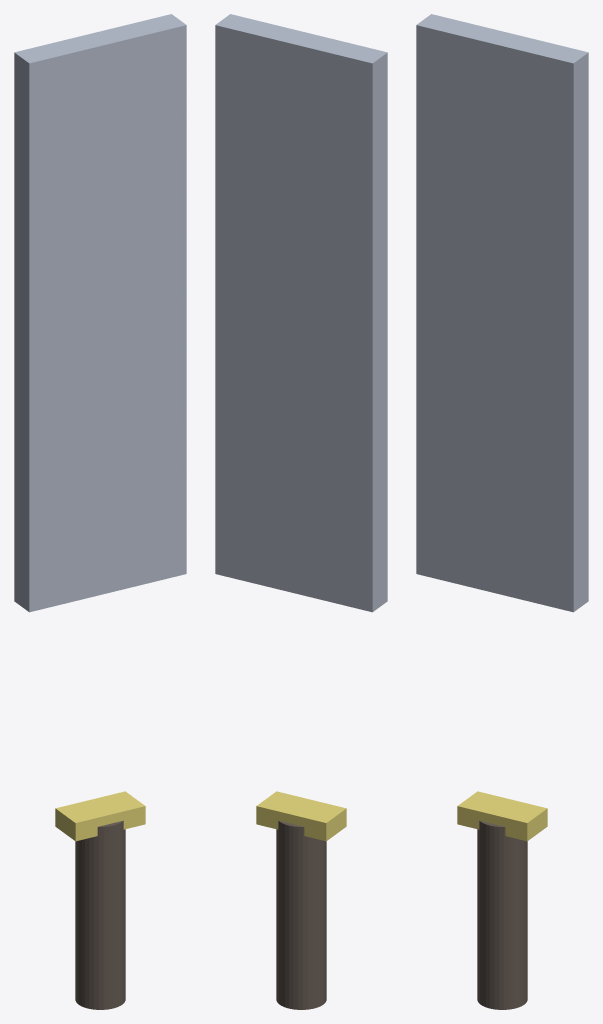
File: cloud_sword.glb
The picture shows the model from 3 angles, left to right: view 1: azimuth 30°, elevation 25°; view 2: azimuth 150°, elevation 25°; view 3: azimuth 330°, elevation 25°; orthographic projection.
Parts seen in each view (by area): view 1: Blade, Handle, Guard; view 2: Blade, Handle, Guard; view 3: Blade, Handle, Guard.
Part boxes in pixels (box(x1,y1,x2,y2)): Blade: box(14, 14, 186, 612); Handle: box(75, 820, 125, 1009); Guard: box(55, 791, 145, 841); Blade: box(215, 14, 387, 612); Handle: box(276, 820, 326, 1009); Guard: box(256, 791, 346, 841); Blade: box(416, 14, 588, 612); Handle: box(477, 820, 527, 1009); Guard: box(457, 791, 547, 841).
Bounding box in the file's own units: 0.18 × 1.05 × 0.05.
